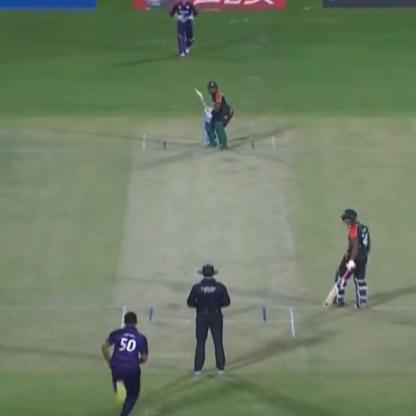bat: (188, 83, 214, 118)
pitch: (110, 121, 300, 350)
